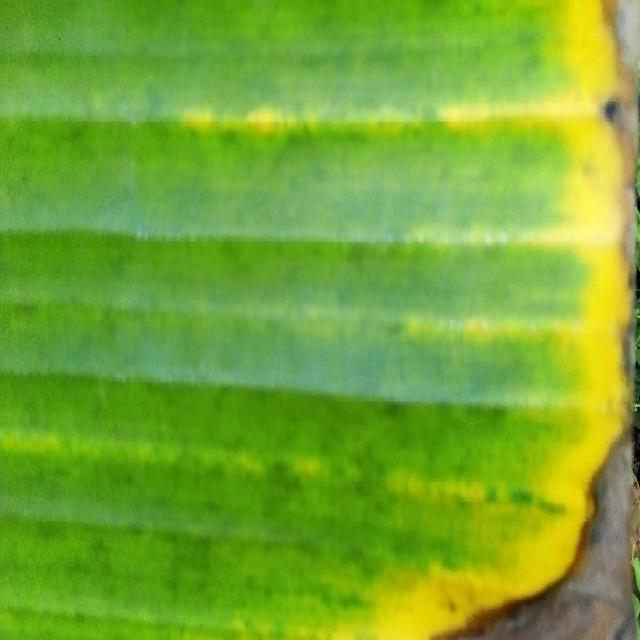Cordana: (136, 0, 640, 640)
